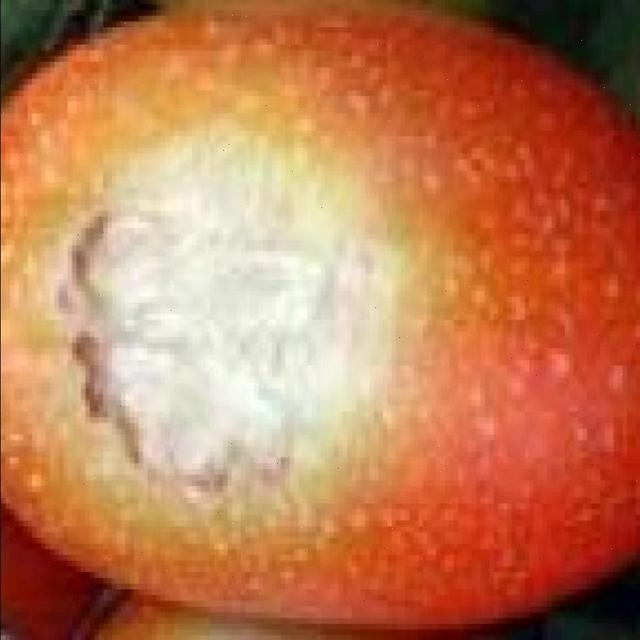Sunscald Fruit: (30, 83, 278, 347)
